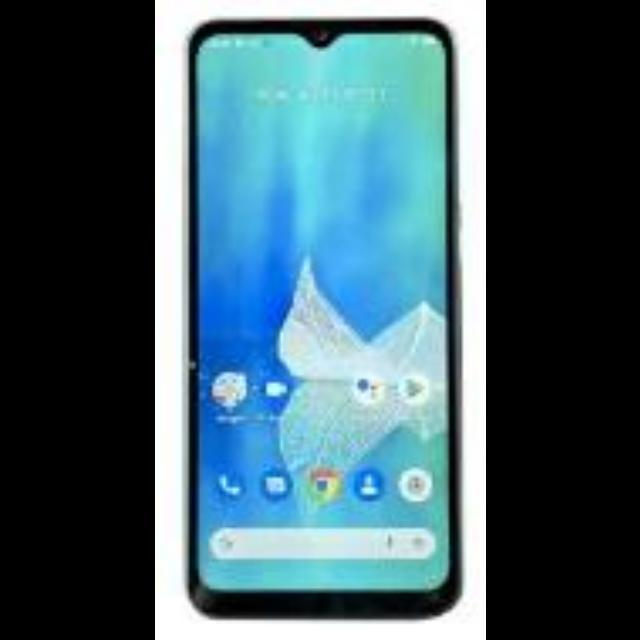Phone: (184, 17, 462, 619)
